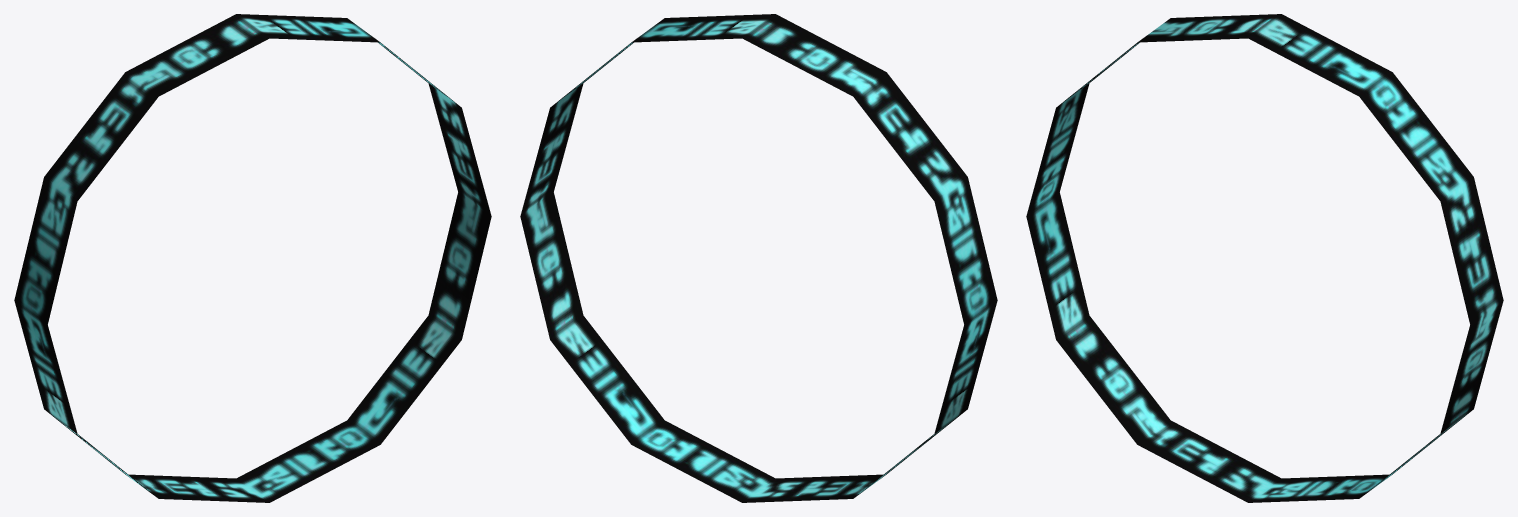
3 views of the same model, side by side, from view 1: azimuth 30°, elevation 25°; view 2: azimuth 150°, elevation 25°; view 3: azimuth 330°, elevation 25° (orthographic).
Visible parts, largest first — view 1: a47_2; view 2: a47_2; view 3: a47_2.
Part boxes in pixels (box(x1,y1,x2,y2)): a47_2: box(14, 14, 491, 502); a47_2: box(520, 14, 997, 502); a47_2: box(1026, 14, 1503, 502).
Size of the model in its own units: 634 by 634 by 82.86.
1 material, 1 textured.
